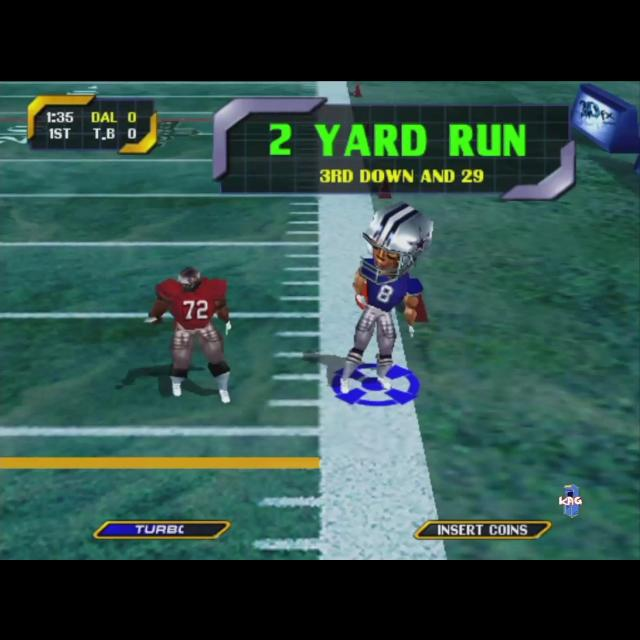player: (341, 202, 434, 392), (142, 266, 232, 402)
